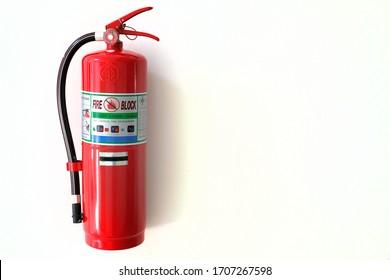wall-mounted: (21, 3, 193, 256)
